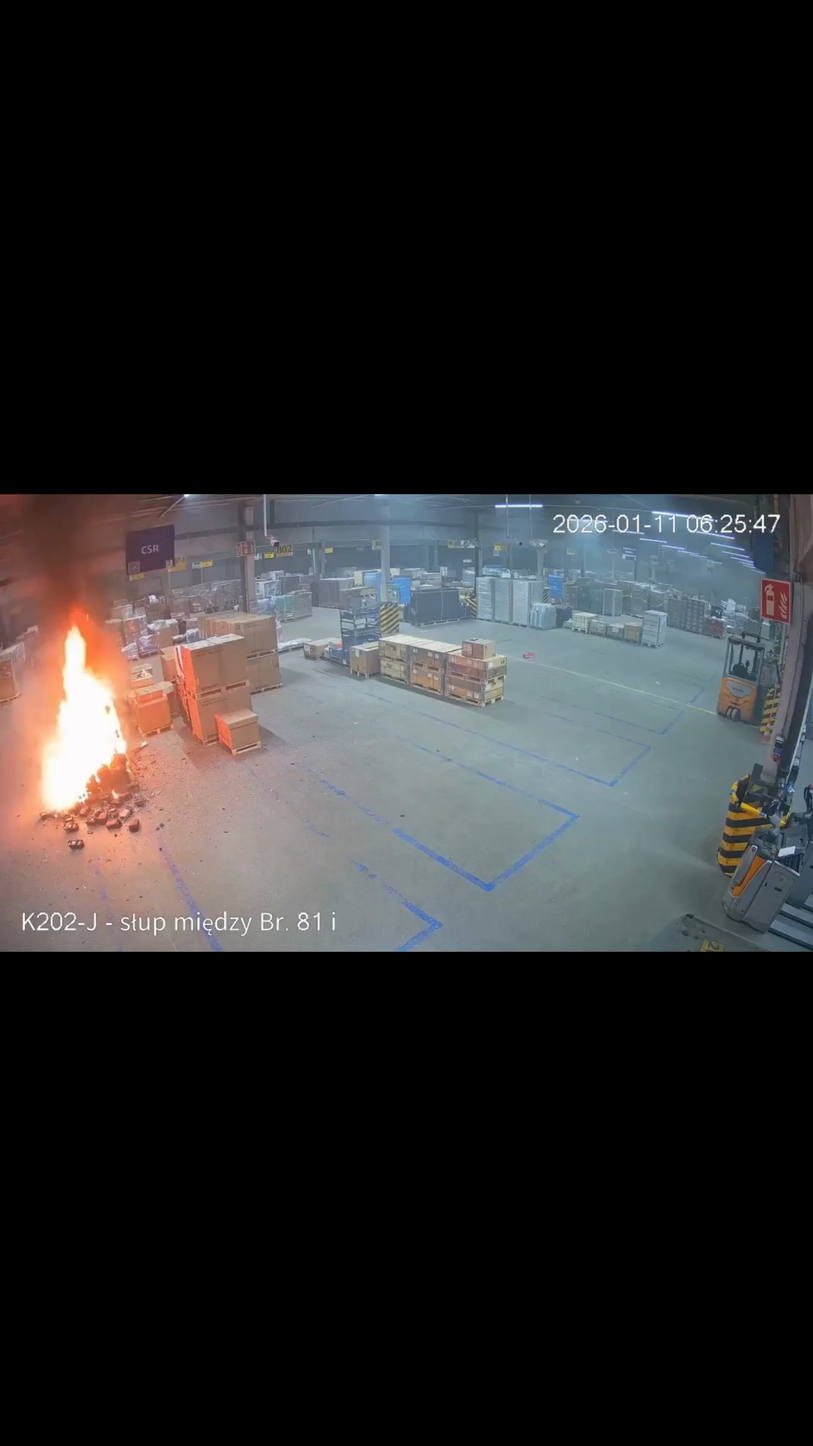fire: (37, 606, 137, 818)
smoke: (0, 495, 135, 633)
